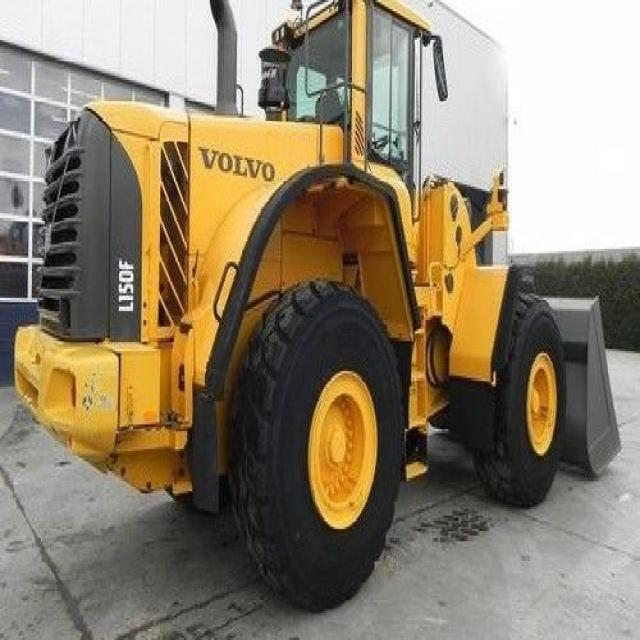buldozerpayloadergrader: (15, 7, 625, 600)
